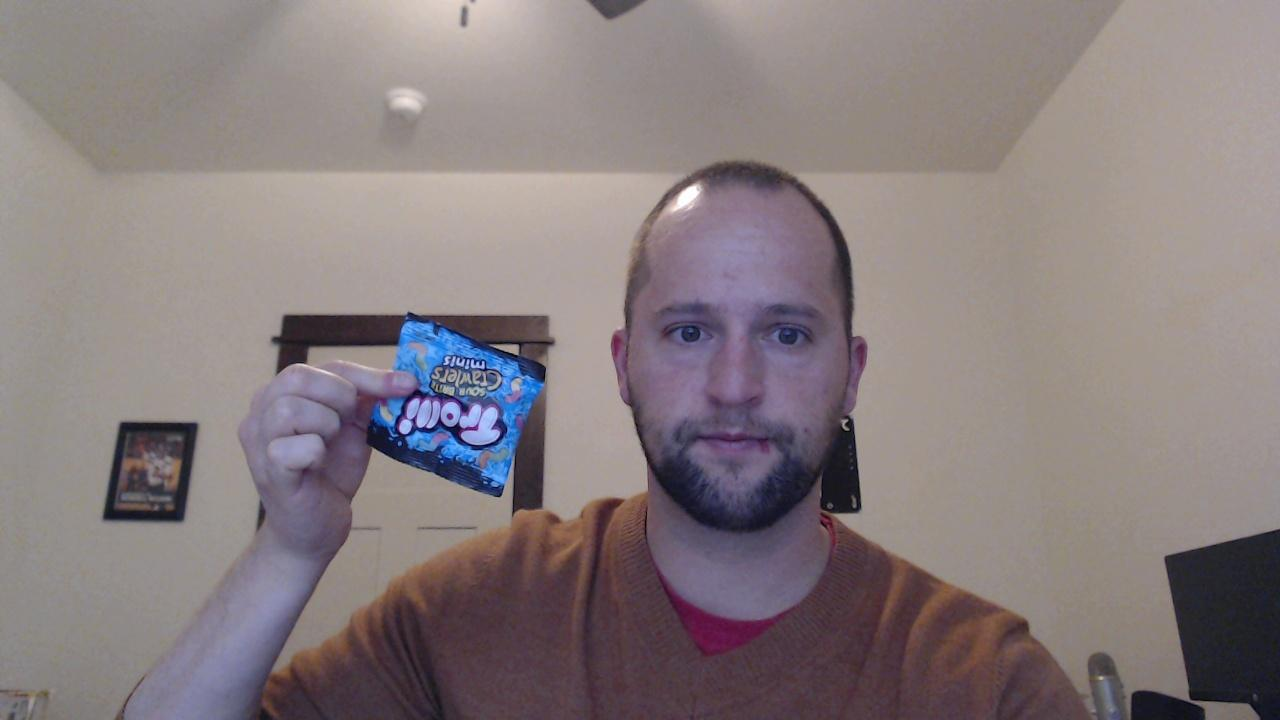Trolli: (365, 315, 550, 495)
